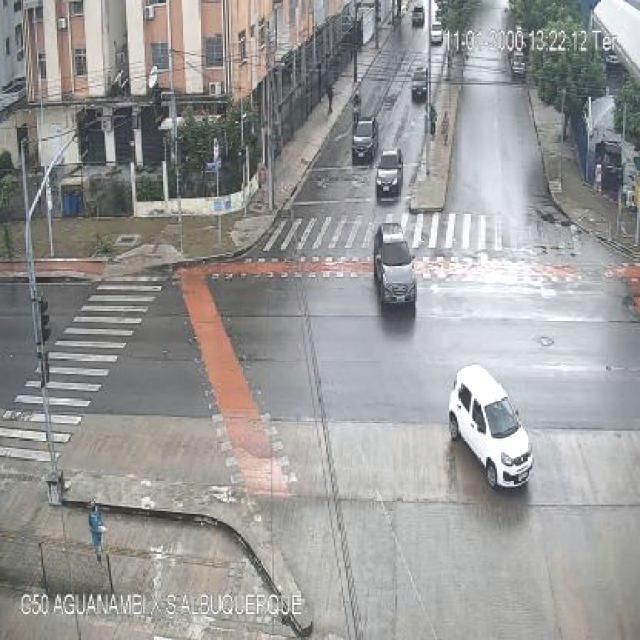Car: (448, 357, 542, 488), (362, 219, 423, 323), (341, 109, 383, 166), (368, 147, 408, 200), (403, 64, 434, 111), (507, 44, 534, 84), (406, 0, 429, 31), (430, 15, 450, 48)
